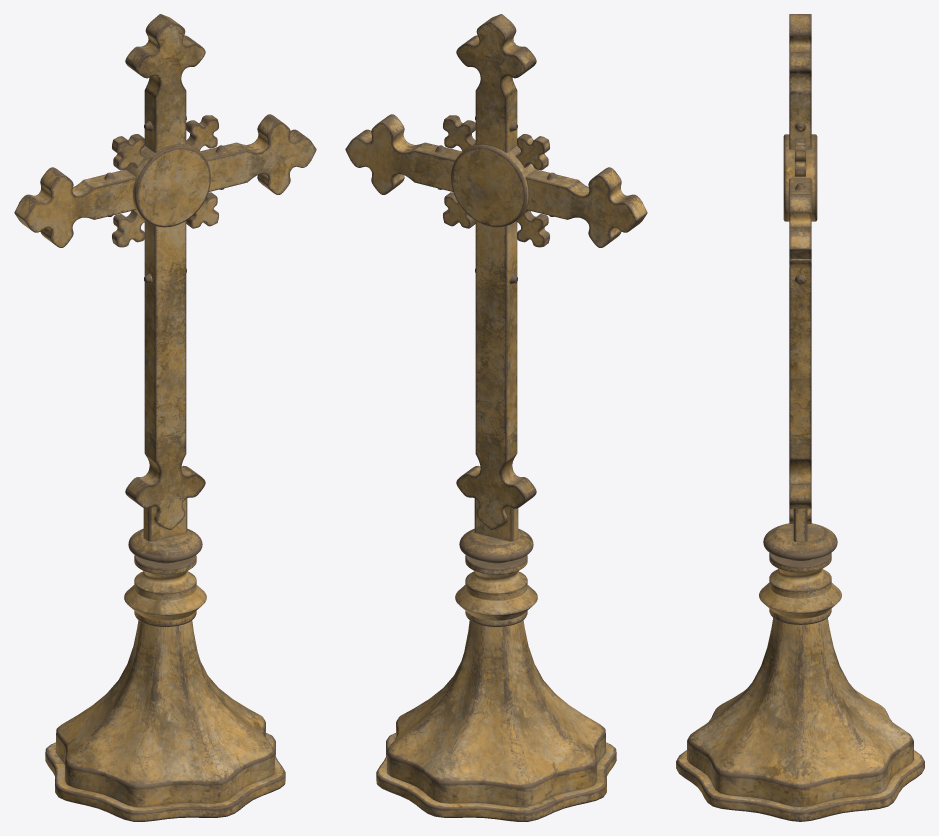
The model's file is SM_Relic.fbx.
3 views of the same model, side by side, from view 1: azimuth 30°, elevation 25°; view 2: azimuth 150°, elevation 25°; view 3: azimuth 270°, elevation 25° (orthographic).
Visible parts, largest first — view 1: Relic; view 2: Relic; view 3: Relic.
Part boxes in pixels (x1=…): Relic: x1=14, y1=14, x2=316, y2=821; Relic: x1=345, y1=14, x2=647, y2=821; Relic: x1=676, y1=14, x2=924, y2=821.
Bounding box in the file's own units: 15.02 × 37.11 × 11.06.
